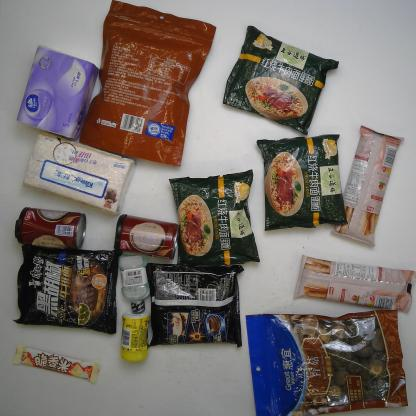Canned Food: (14, 205, 88, 251), (113, 212, 181, 261)
Chocolate: (12, 343, 102, 385)
Dessert: (328, 124, 406, 248), (292, 253, 416, 315)
Dried Food: (77, 0, 217, 169), (244, 308, 410, 415)
Gum: (119, 310, 151, 364)
Instant Noodles: (222, 25, 341, 138), (10, 246, 124, 336), (167, 167, 262, 268), (256, 132, 350, 232), (143, 262, 245, 348)
Personal Hygiene: (117, 252, 150, 316)
Tissue: (21, 130, 139, 217), (15, 43, 99, 141)
